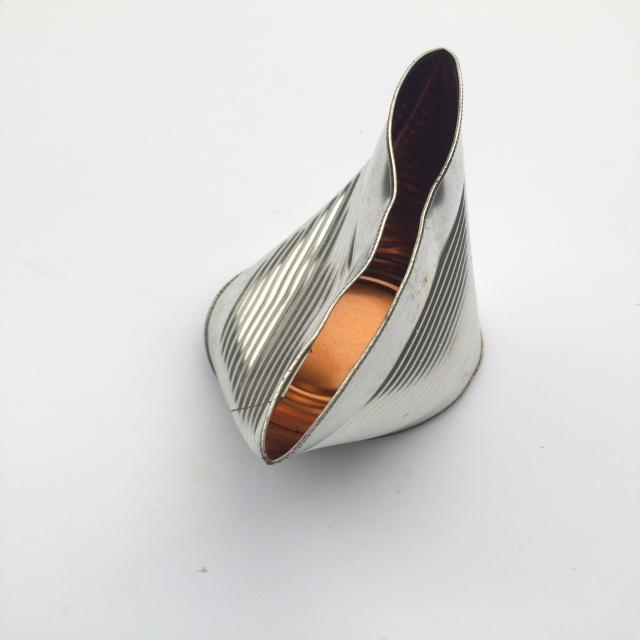metal: (206, 47, 484, 463)
